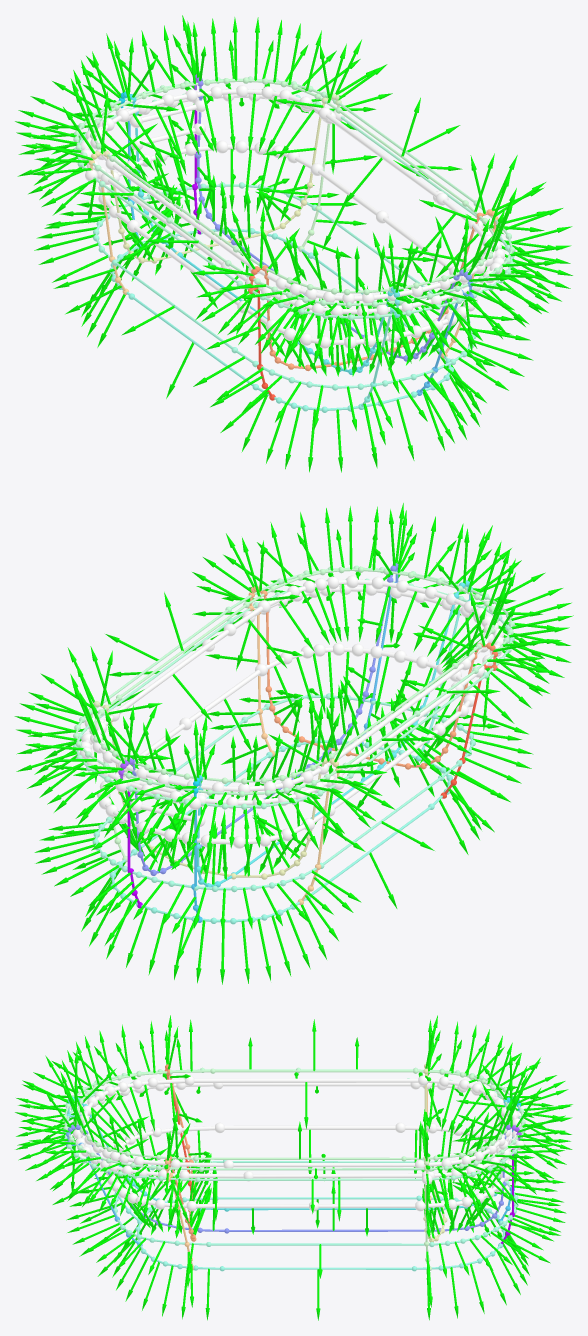
Rendered from flowrep_bathtub.gltf.
3 renders of one model, top to bottom at view 1: azimuth 30°, elevation 25°; view 2: azimuth 150°, elevation 25°; view 3: azimuth 270°, elevation 25°, orthographic. The views are drawn at different scales.
Bounding box in the file's own units: 0.6369 × 0.4353 × 1.05.
